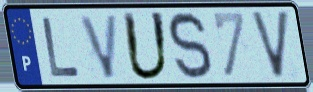7: (211, 10, 247, 81)
L: (40, 15, 83, 79)
S: (166, 9, 215, 83)
U: (120, 10, 172, 84)
V: (248, 9, 292, 82), (77, 12, 120, 82)
